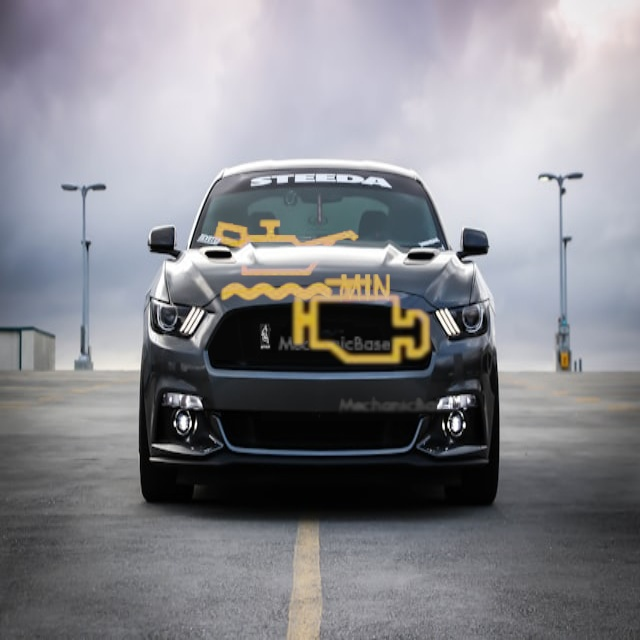symbol: (261, 222, 460, 421), (202, 164, 398, 360)
